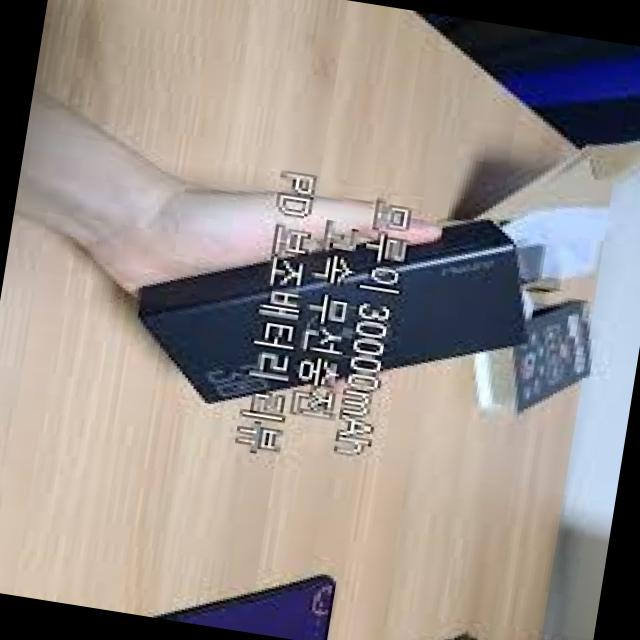portable-charger: (121, 172, 537, 454)
